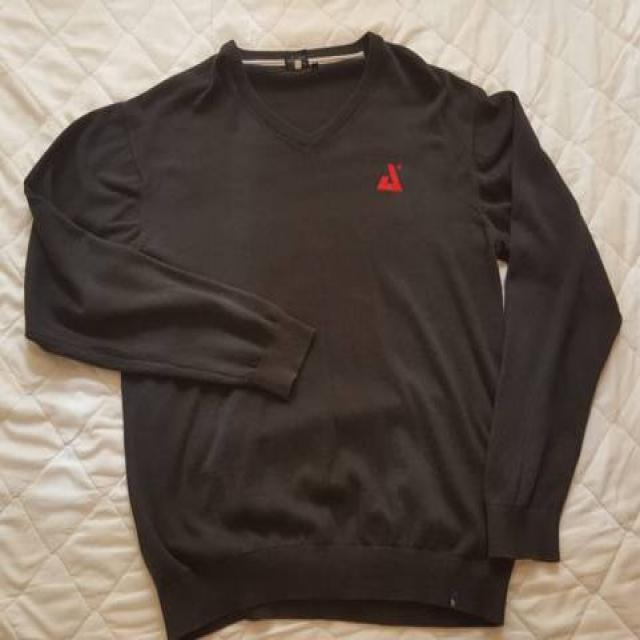Clothes -Biodegradable-: (20, 36, 621, 640)
